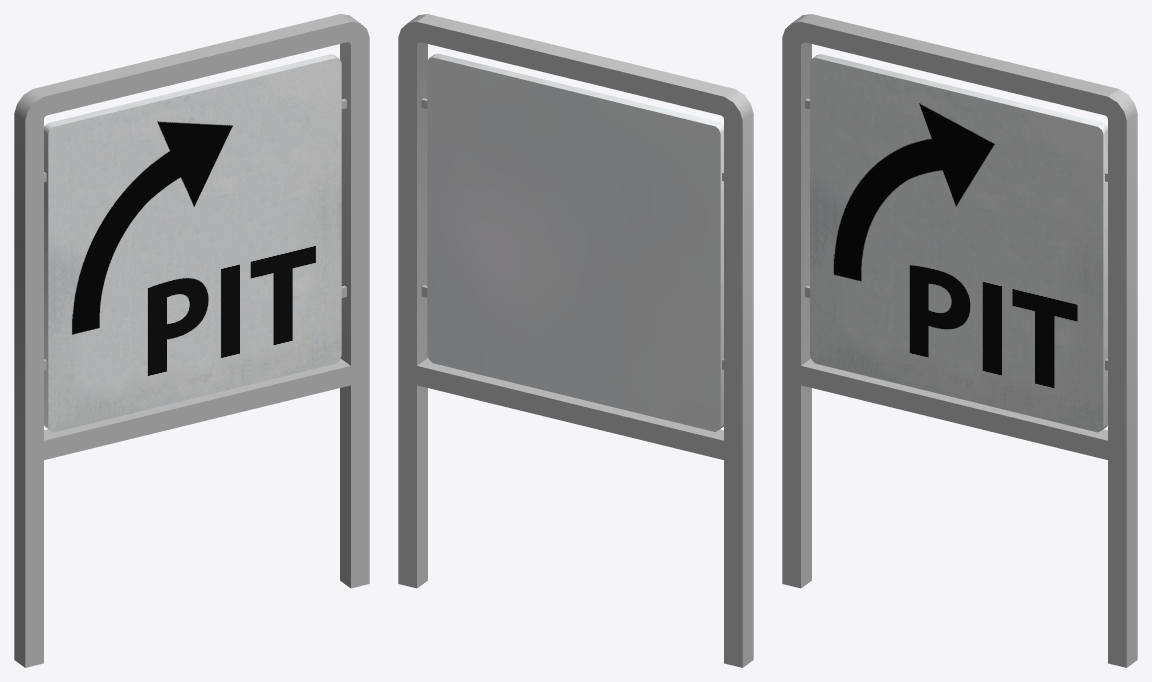
Rendered from Track_Sign_Pit_Right.fbx.
3 views of the same model, side by side, from view 1: azimuth 30°, elevation 25°; view 2: azimuth 150°, elevation 25°; view 3: azimuth 330°, elevation 25° (orthographic).
Visible parts, largest first — view 1: Pit_Right, Frame; view 2: Pit_Right, Frame; view 3: Pit_Right, Frame.
Boxes of the visible parts, x1,y1,x2,y2 form: Pit_Right: (44,54,341,432); Frame: (14,14,369,667); Pit_Right: (427,53,723,431); Frame: (398,14,753,667); Pit_Right: (810,54,1107,432); Frame: (782,14,1137,667).
Bounding box in the file's own units: 130 × 204 × 7.
